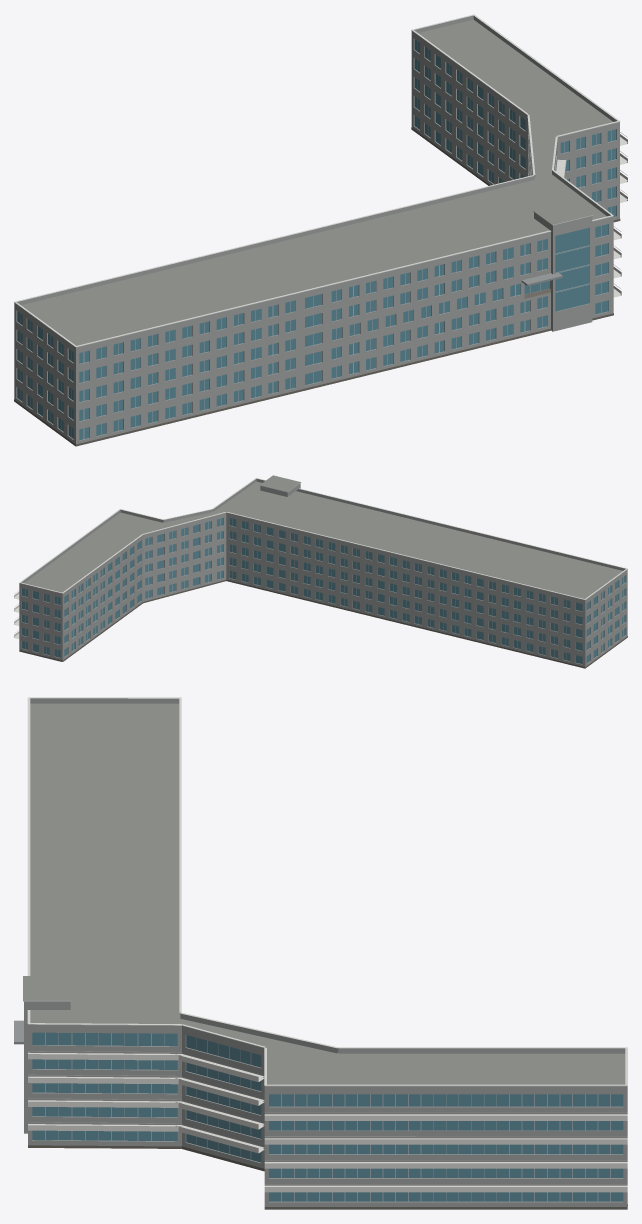
3 renders of one model, top to bottom at view 1: azimuth 30°, elevation 25°; view 2: azimuth 150°, elevation 25°; view 3: azimuth 270°, elevation 25°, orthographic. The views are drawn at different scales.
Visible parts, largest first — view 1: lifeScience__wall, lifeScience__roof, lifeScience__glass, lifeScience__parapet, lifeScience__trim, lifeScience__frame, lifeScience__base; view 2: lifeScience__wall, lifeScience__roof, lifeScience__glass, lifeScience__parapet, lifeScience__trim, lifeScience__frame, lifeScience__base; view 3: lifeScience__roof, lifeScience__glass, lifeScience__wall, lifeScience__trim, lifeScience__parapet, lifeScience__frame, lifeScience__base.
Boxes of the visible parts, <box> form: lifeScience__wall: <box>14,34,619,445</box>; lifeScience__roof: <box>21,19,612,345</box>; lifeScience__glass: <box>17,39,616,440</box>; lifeScience__parapet: <box>14,15,619,350</box>; lifeScience__trim: <box>14,14,627,347</box>; lifeScience__frame: <box>20,41,627,438</box>; lifeScience__base: <box>14,127,620,446</box>; lifeScience__wall: <box>19,483,627,668</box>; lifeScience__roof: <box>24,475,622,598</box>; lifeScience__glass: <box>22,518,625,664</box>; lifeScience__parapet: <box>19,478,627,602</box>; lifeScience__trim: <box>14,478,627,638</box>; lifeScience__frame: <box>14,519,623,660</box>; lifeScience__base: <box>19,579,627,668</box>; lifeScience__roof: <box>23,703,625,1148</box>; lifeScience__glass: <box>32,1032,623,1201</box>; lifeScience__wall: <box>24,1001,627,1206</box>; lifeScience__trim: <box>23,697,627,1192</box>; lifeScience__parapet: <box>28,698,627,1090</box>; lifeScience__frame: <box>28,1032,627,1201</box>; lifeScience__base: <box>28,1145,627,1209</box>.
Size of the model in its own units: 131 by 20.82 by 86.73.
